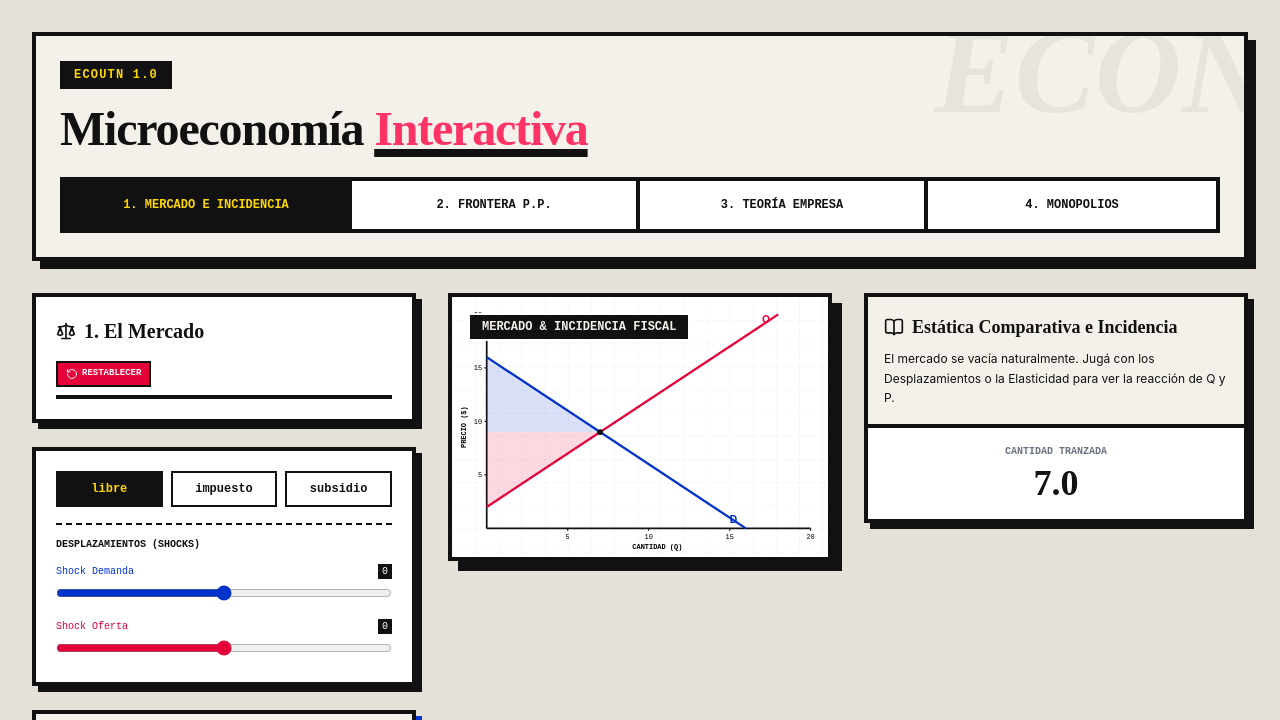
Test: App shell › unmounts the active module when switching tabs and resets it on return
Set the slider below "Shock Demanda" to "5": (324, 592) [56,584,392,600]
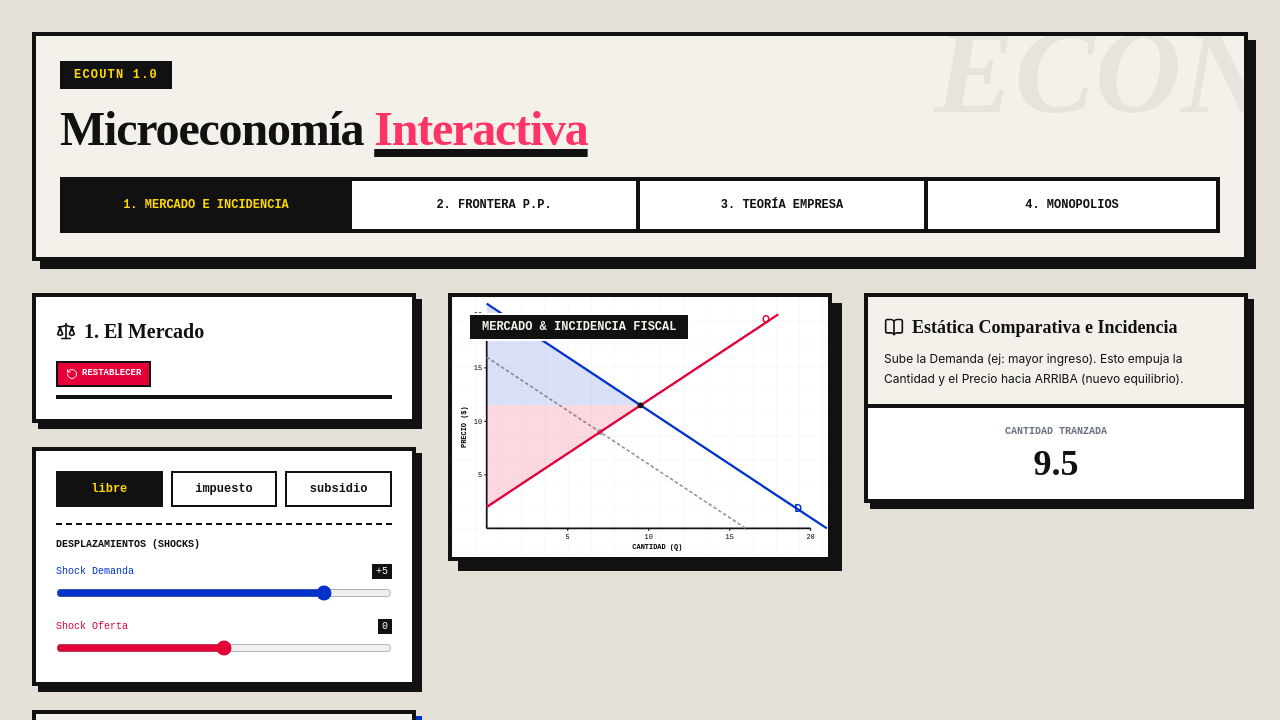
Click the button "2. Frontera P.P.": (496, 205) [352,181,640,229]
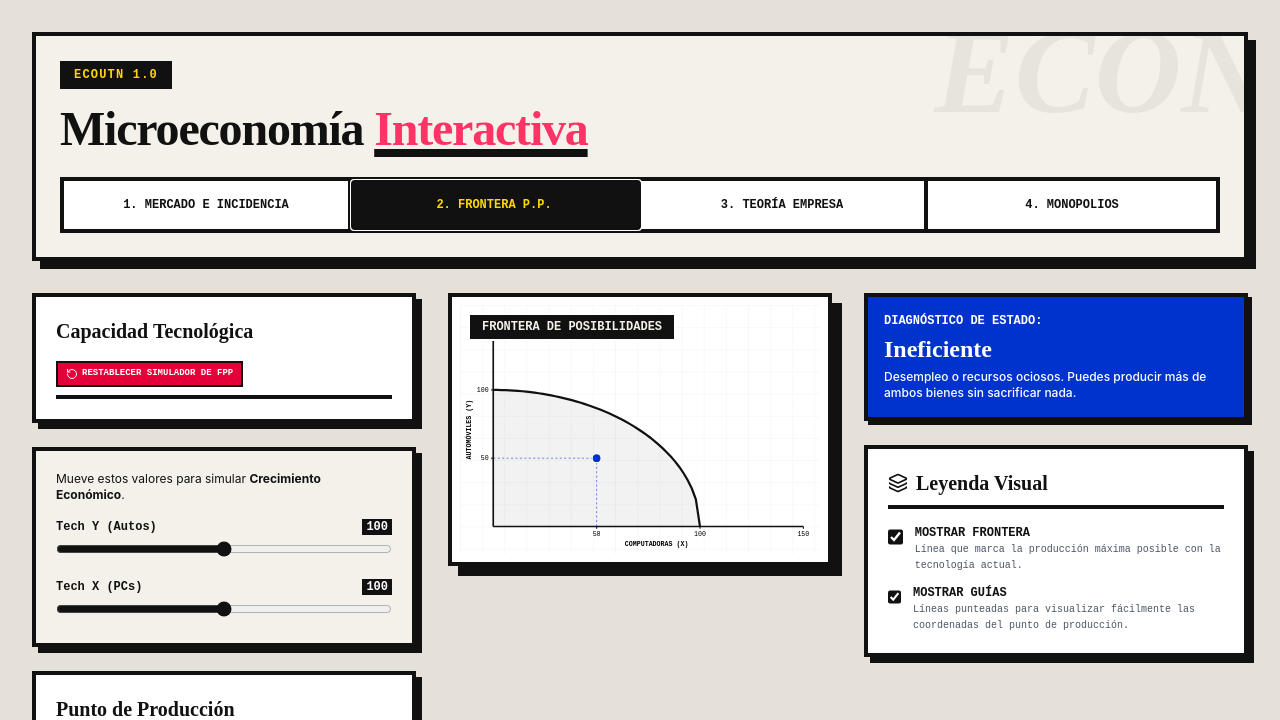
Expected: the heading "1. El Mercado" is gone
Expected: the heading "Capacidad Tecnológica" is shown, [56,320,253,342]
Click the button "1. Mercado e Incidencia": (208, 205) [64,181,352,229]
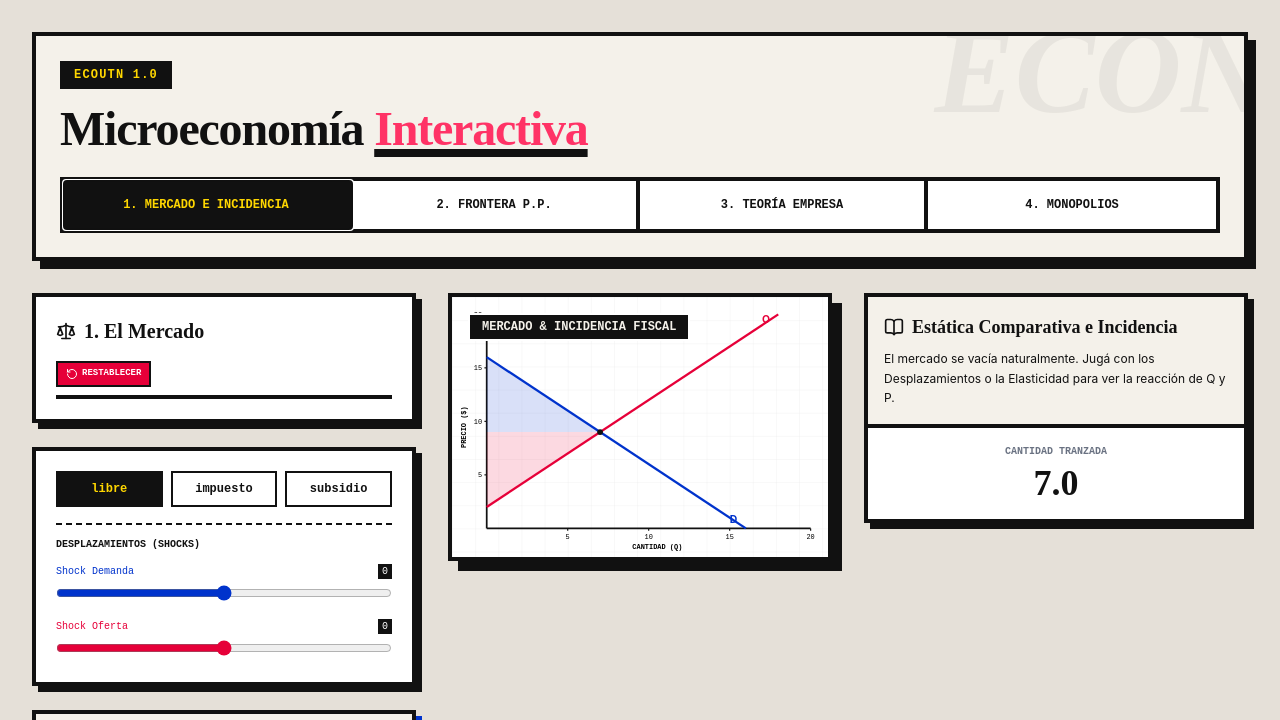
Expected: the heading "1. El Mercado" is shown, [56,320,204,342]
Expected: the slider below "Shock Demanda" holds "0", [56,584,392,600]
